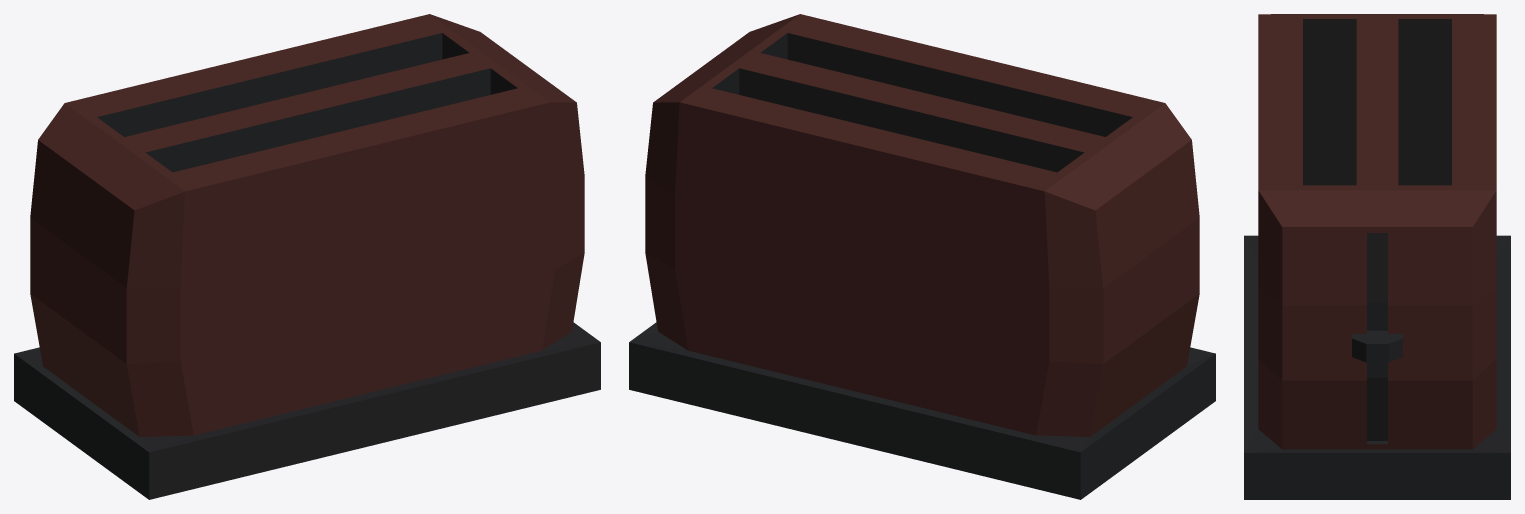
The model's file is toasteroawl_01_C.gltf.
3 views of the same model, side by side, from view 1: azimuth 30°, elevation 25°; view 2: azimuth 150°, elevation 25°; view 3: azimuth 270°, elevation 25° (orthographic).
Visible parts, largest first — view 1: toasteroawl_01_C; view 2: toasteroawl_01_C; view 3: toasteroawl_01_C, Switchfortoasteroawl_01_C.
Part boxes in pixels (x1,y1,x2,y2): toasteroawl_01_C: (14, 14, 600, 499); toasteroawl_01_C: (629, 14, 1215, 499); toasteroawl_01_C: (1244, 14, 1510, 499); Switchfortoasteroawl_01_C: (1352, 330, 1402, 362).
Bounding box in the file's own units: 0.3437 × 0.2007 × 0.1679.
Materials: 1 (1 with a texture image).
